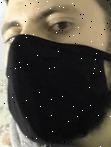with_mask: (2, 1, 111, 147)
